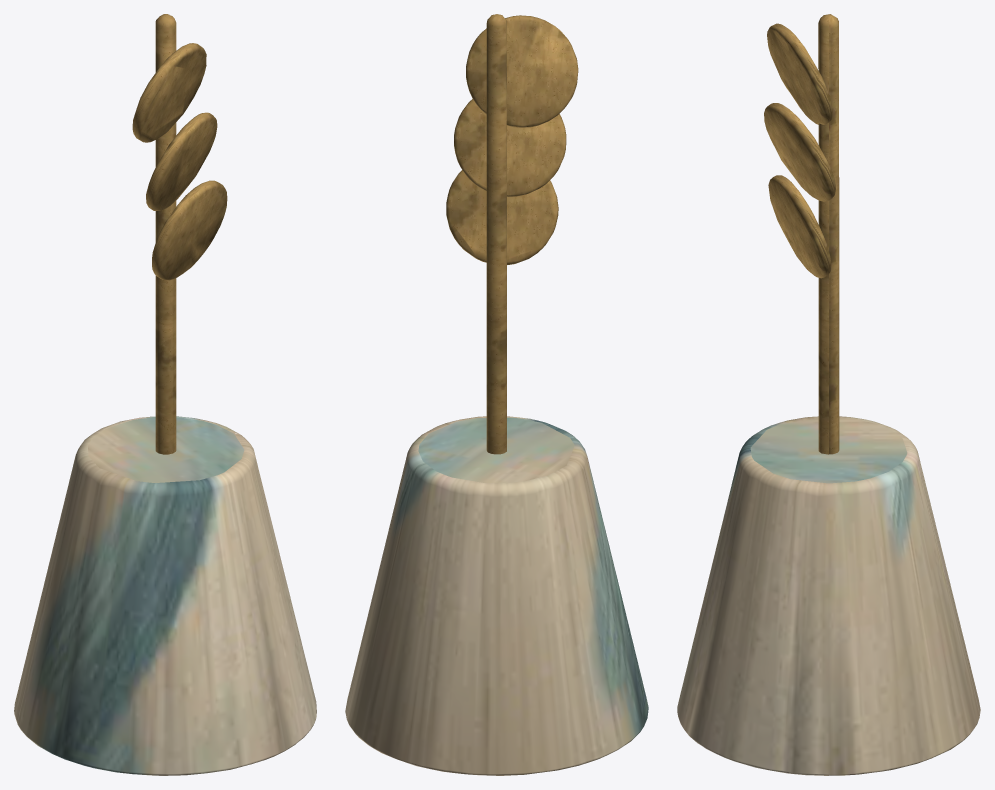
File: Medenka_02_Mince_bila.glb
3 renders of one model, left to right at view 1: azimuth 30°, elevation 25°; view 2: azimuth 150°, elevation 25°; view 3: azimuth 270°, elevation 25°, orthographic.
Parts seen in each view (by area): view 1: Telo, Tyc, Mince_3, Mince_1, Mince_2; view 2: Telo, Tyc, Mince_1, Mince_2, Mince_3; view 3: Telo, Tyc, Mince_2, Mince_1, Mince_3.
Boxes of the visible parts, box(x1,y1,x2,y2) form: Telo: box(14, 416, 316, 775); Tyc: box(155, 14, 176, 454); Mince_3: box(152, 180, 227, 280); Mince_1: box(132, 43, 206, 142); Mince_2: box(146, 112, 217, 210); Telo: box(345, 416, 648, 775); Tyc: box(486, 14, 506, 454); Mince_1: box(466, 15, 578, 127); Mince_2: box(454, 99, 566, 196); Mince_3: box(446, 170, 558, 264); Telo: box(677, 416, 980, 775); Tyc: box(818, 14, 839, 454); Mince_2: box(764, 103, 835, 201); Mince_1: box(767, 23, 832, 124); Mince_3: box(768, 175, 831, 278).
Bounding box in the file's own units: 0.0397 × 0.101 × 0.0398.
Materials: 3 (3 with a texture image).
